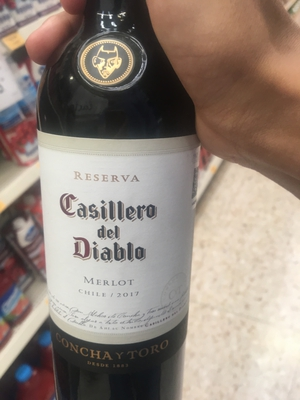casillero del diablo merlot: (36, 17, 196, 400)
